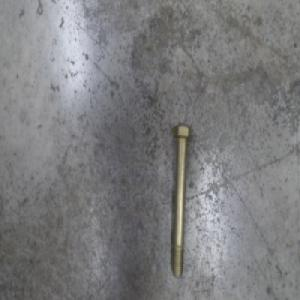Bolt: (170, 122, 192, 280)
